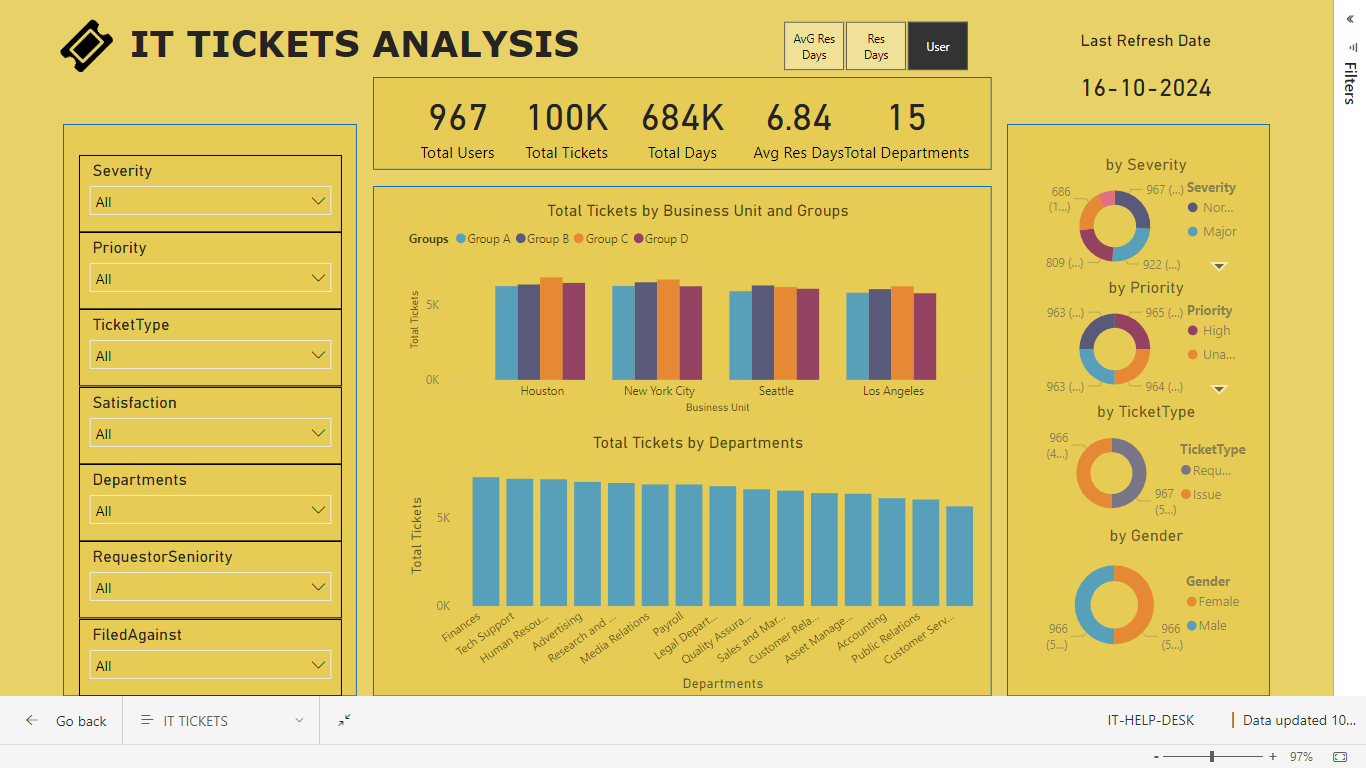

What the dashboard file says about the page in this screenshot:
{"tool":"powerbi","page":{"name":"IT TICKETS","canvas":[1280,720],"ordinal":0},"visuals":[{"type":"shape","box":[336,80,640,96],"z":0},{"type":"shape","box":[16,128,304,592],"z":1000},{"type":"textbox","box":[80,16,608,64],"z":2000},{"type":"image","box":[0,16,80,64],"z":3000},{"type":"card","fields":{"Values":["All Measures.Total Users"]},"box":[352,80,144,96],"z":4000},{"type":"card","fields":{"Values":["All Measures.Total Tickets"]},"box":[464,80,144,96],"z":5000},{"type":"card","fields":{"Values":["All Measures.Total Days"]},"box":[576,80,160,96],"z":6000},{"type":"card","fields":{"Values":["All Measures.Avg Res Days"]},"box":[704,80,144,96],"z":7000},{"type":"card","fields":{"Values":["All Measures.Total Departments"]},"box":[816,80,144,96],"z":8000},{"type":"card","title":"Last Refresh Date","fields":{"Values":["Min(Query1.LastRefresh)"]},"box":[1008,32,256,96],"z":9000},{"type":"slicer","fields":{"Values":["IT-Help-Desk.Severity"]},"box":[32,160,272,80],"z":10000},{"type":"slicer","fields":{"Values":["IT-Help-Desk.Priority"]},"box":[32,240,272,80],"z":11000},{"type":"slicer","fields":{"Values":["IT-Help-Desk.TicketType"]},"box":[32,320,272,80],"z":12000},{"type":"slicer","fields":{"Values":["IT-Help-Desk.Satisfaction"]},"box":[32,400,272,80],"z":13000},{"type":"slicer","fields":{"Values":["IT-Help-Desk.Departments"]},"box":[32,480,272,80],"z":14000},{"type":"slicer","fields":{"Values":["IT-Help-Desk.RequestorSeniority"]},"box":[32,560,272,80],"z":15000},{"type":"slicer","fields":{"Values":["IT-Help-Desk.FiledAgainst"]},"box":[32,640,272,80],"z":16000},{"type":"slicer","fields":{"Values":["Measure Selection.Measure"]},"box":[736,16,240,64],"z":16001},{"type":"donutChart","title":"by Severity","fields":{"Category":["IT-Help-Desk.Severity"],"Y":["All Measures.Measure Logic"]},"box":[1024,160,224,128],"z":16002},{"type":"donutChart","title":"by Priority","fields":{"Category":["IT-Help-Desk.Priority"],"Y":["All Measures.Measure Logic"]},"box":[1024,288,224,128],"z":16003},{"type":"donutChart","title":"by TicketType","fields":{"Category":["IT-Help-Desk.TicketType"],"Y":["All Measures.Measure Logic"]},"box":[1024,416,224,128],"z":16004},{"type":"donutChart","title":"by Gender","fields":{"Category":["IT-Help-Desk.Gender"],"Y":["All Measures.Measure Logic"]},"box":[1024,544,224,144],"z":16005},{"type":"shape","box":[992,128,272,592],"z":16006},{"type":"clusteredColumnChart","fields":{"Category":["IT-Help-Desk.Business Unit"],"Series":["IT-Help-Desk.Groups"],"Y":["All Measures.Total Tickets"]},"box":[368,208,608,224],"z":16007},{"type":"lineClusteredColumnComboChart","fields":{"Category":["IT-Help-Desk.Departments"],"Y":["All Measures.Total Tickets"]},"box":[368,448,608,272],"z":16008},{"type":"shape","box":[336,192,640,528],"z":16009}]}

Visuals, with their boxes on the page's 1280x720 design canvas (x1, y1, x2, y2). These are canvas units, not pixel positions in the 1366x768 screenshot, which may show the page scaled, cropped or inside an application window:
shape: bbox=(336, 80, 976, 176)
shape: bbox=(16, 128, 320, 720)
textbox: bbox=(80, 16, 688, 80)
image: bbox=(0, 16, 80, 80)
card - All Measures.Total Users: bbox=(352, 80, 496, 176)
card - All Measures.Total Tickets: bbox=(464, 80, 608, 176)
card - All Measures.Total Days: bbox=(576, 80, 736, 176)
card - All Measures.Avg Res Days: bbox=(704, 80, 848, 176)
card - All Measures.Total Departments: bbox=(816, 80, 960, 176)
"Last Refresh Date" card: bbox=(1008, 32, 1264, 128)
slicer - IT-Help-Desk.Severity: bbox=(32, 160, 304, 240)
slicer - IT-Help-Desk.Priority: bbox=(32, 240, 304, 320)
slicer - IT-Help-Desk.TicketType: bbox=(32, 320, 304, 400)
slicer - IT-Help-Desk.Satisfaction: bbox=(32, 400, 304, 480)
slicer - IT-Help-Desk.Departments: bbox=(32, 480, 304, 560)
slicer - IT-Help-Desk.RequestorSeniority: bbox=(32, 560, 304, 640)
slicer - IT-Help-Desk.FiledAgainst: bbox=(32, 640, 304, 720)
slicer - Measure Selection.Measure: bbox=(736, 16, 976, 80)
"by Severity" donutChart: bbox=(1024, 160, 1248, 288)
"by Priority" donutChart: bbox=(1024, 288, 1248, 416)
"by TicketType" donutChart: bbox=(1024, 416, 1248, 544)
"by Gender" donutChart: bbox=(1024, 544, 1248, 688)
shape: bbox=(992, 128, 1264, 720)
clusteredColumnChart - IT-Help-Desk.Business Unit x IT-Help-Desk.Groups: bbox=(368, 208, 976, 432)
lineClusteredColumnComboChart - IT-Help-Desk.Departments x All Measures.Total Tickets: bbox=(368, 448, 976, 720)
shape: bbox=(336, 192, 976, 720)
